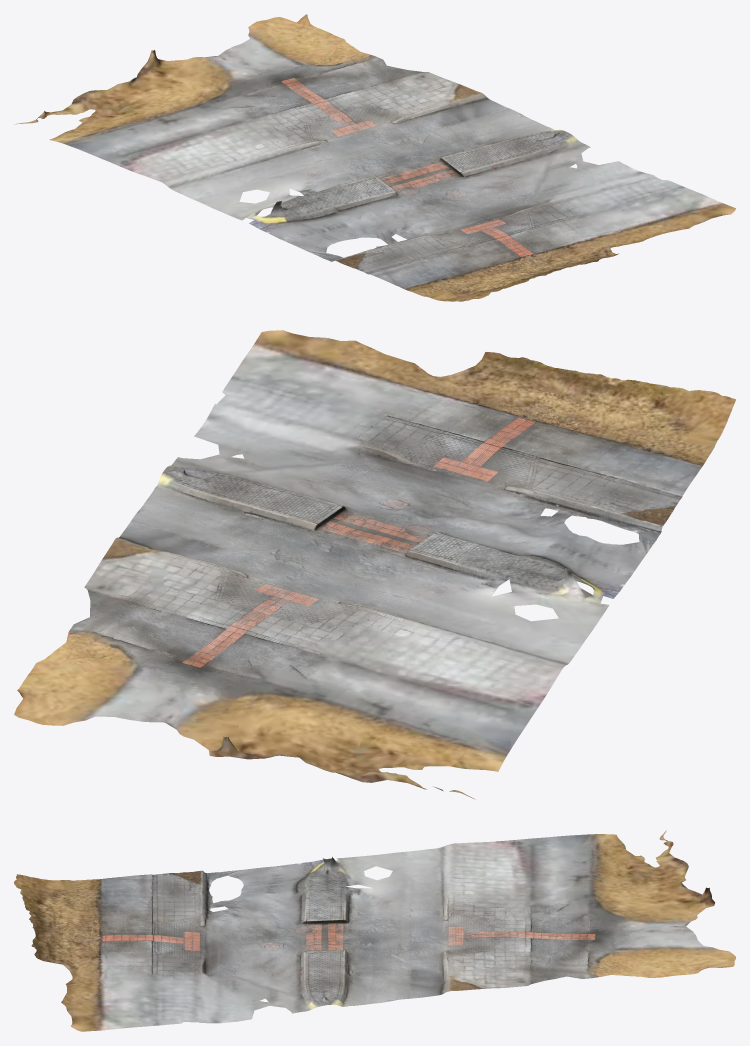
The model's file is hjakronunnilit-transformed.glb.
3 renders of one model, top to bottom at view 1: azimuth 30°, elevation 25°; view 2: azimuth 150°, elevation 25°; view 3: azimuth 270°, elevation 25°, orthographic. The views are drawn at different scales.
Parts seen in each view (by area): view 1: Mesh_0; view 2: Mesh_0; view 3: Mesh_0.
Boxes of the visible parts, <box> form: Mesh_0: <box>14,14,735,301</box>; Mesh_0: <box>14,330,735,799</box>; Mesh_0: <box>14,830,735,1031</box>.
Bounding box in the file's own units: 24.42 × 1.14 × 33.82.
1 material, 1 textured.
